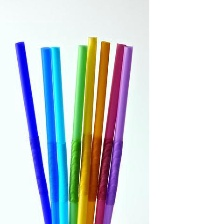drinking_straw: (9, 37, 55, 223), (101, 42, 135, 224)
